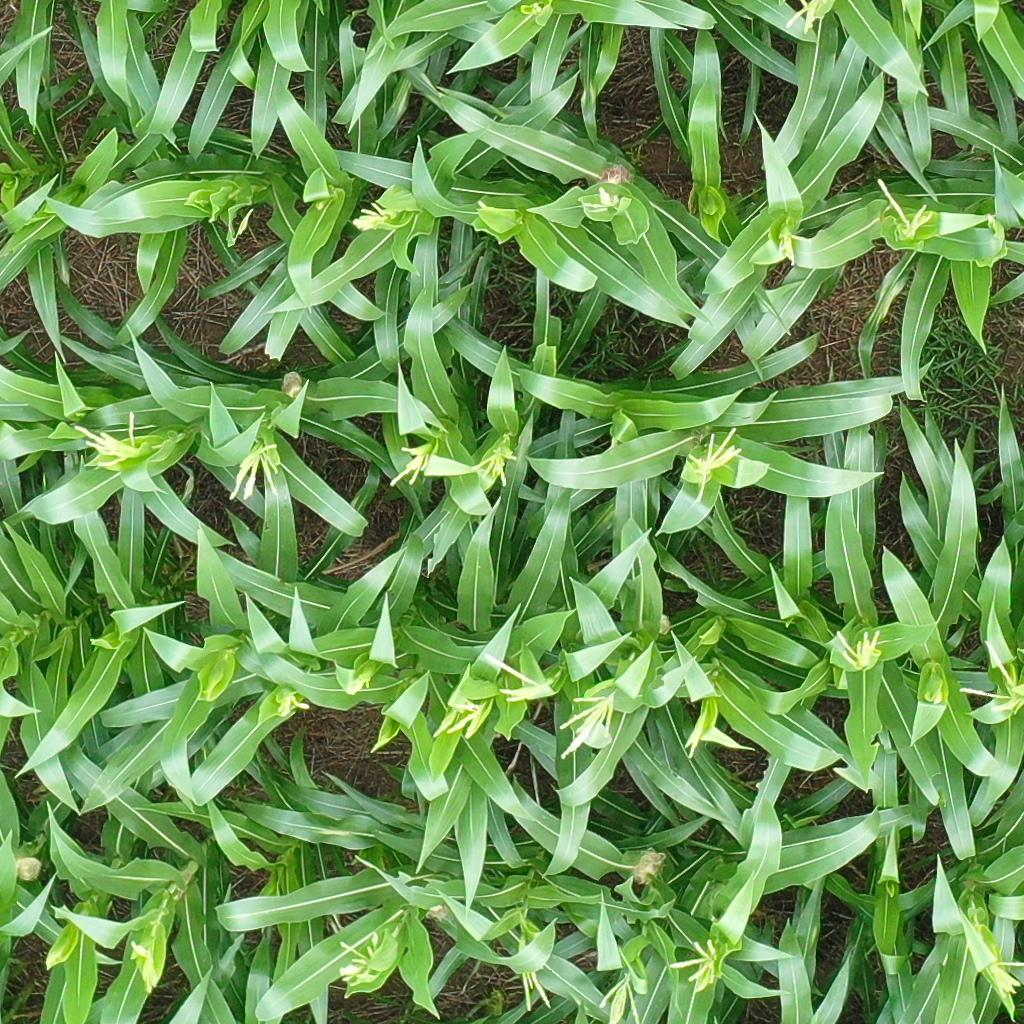Tassel: (956, 638, 1024, 714), (681, 425, 742, 500), (483, 646, 563, 703), (72, 410, 146, 470), (873, 176, 929, 243), (562, 695, 617, 763), (334, 931, 390, 984), (230, 441, 280, 497), (598, 970, 642, 1024), (831, 624, 884, 668), (669, 938, 719, 983), (471, 441, 523, 484), (125, 942, 165, 993), (389, 444, 431, 488), (982, 956, 1022, 1002), (443, 692, 483, 738), (349, 200, 398, 232), (518, 967, 552, 1013), (782, 1, 825, 36), (775, 223, 799, 267), (680, 722, 708, 759), (275, 692, 310, 718), (585, 183, 615, 211), (341, 673, 372, 697)
